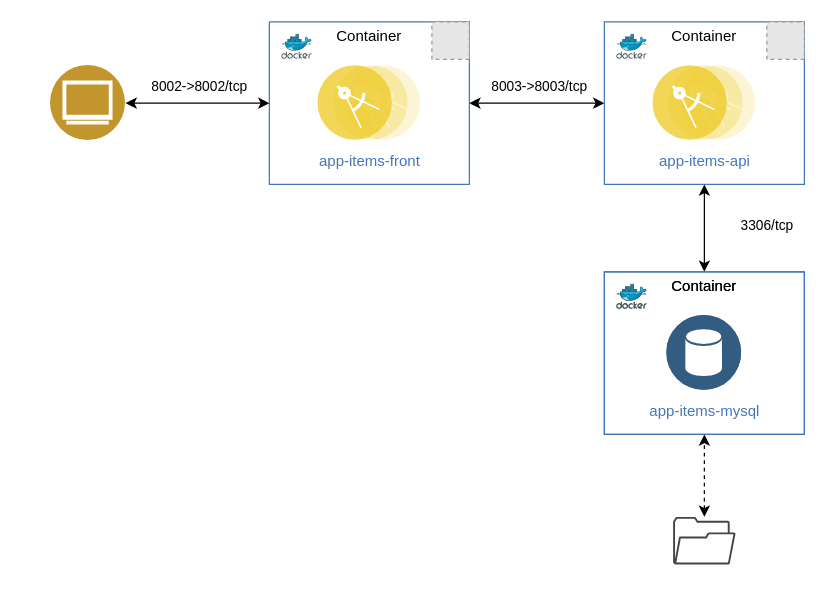
The diagram is 826 pixels wide and 613 high, and some of its shapes have lost their labels. Grey dashed boxes stand in for pictures. Each missing label, with the centre of its shape:
"data/storage/app-items-mysql" belongs at [703,540].
"http://localhost:8003" belongs at [87,102].
